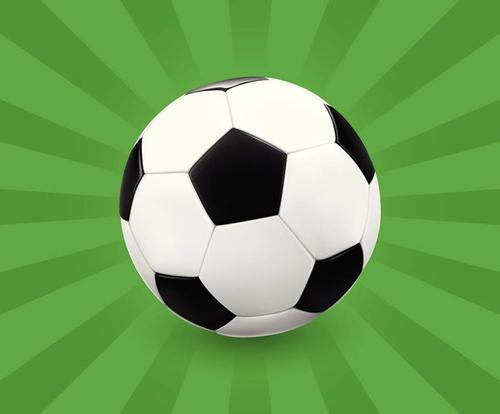football: (108, 68, 386, 342)
